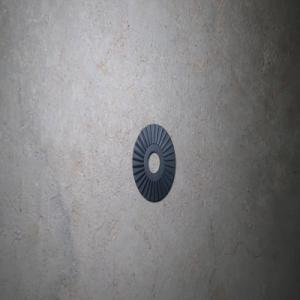Washer: (132, 123, 175, 202)
